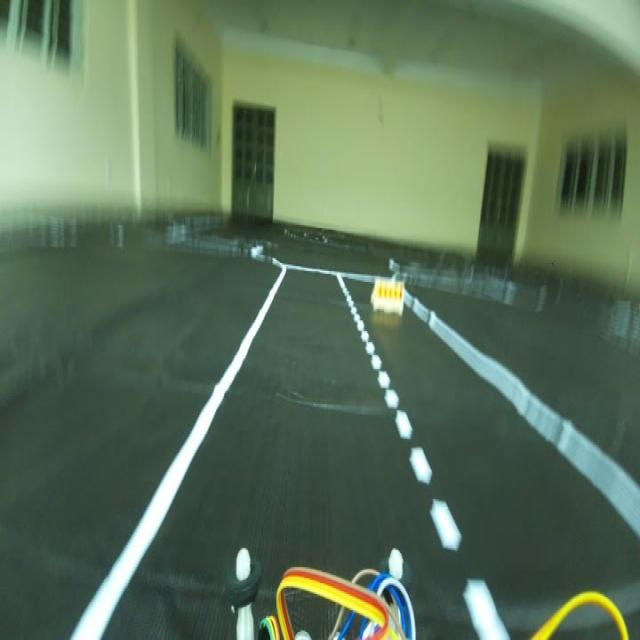roadblock: (371, 270, 407, 329)
